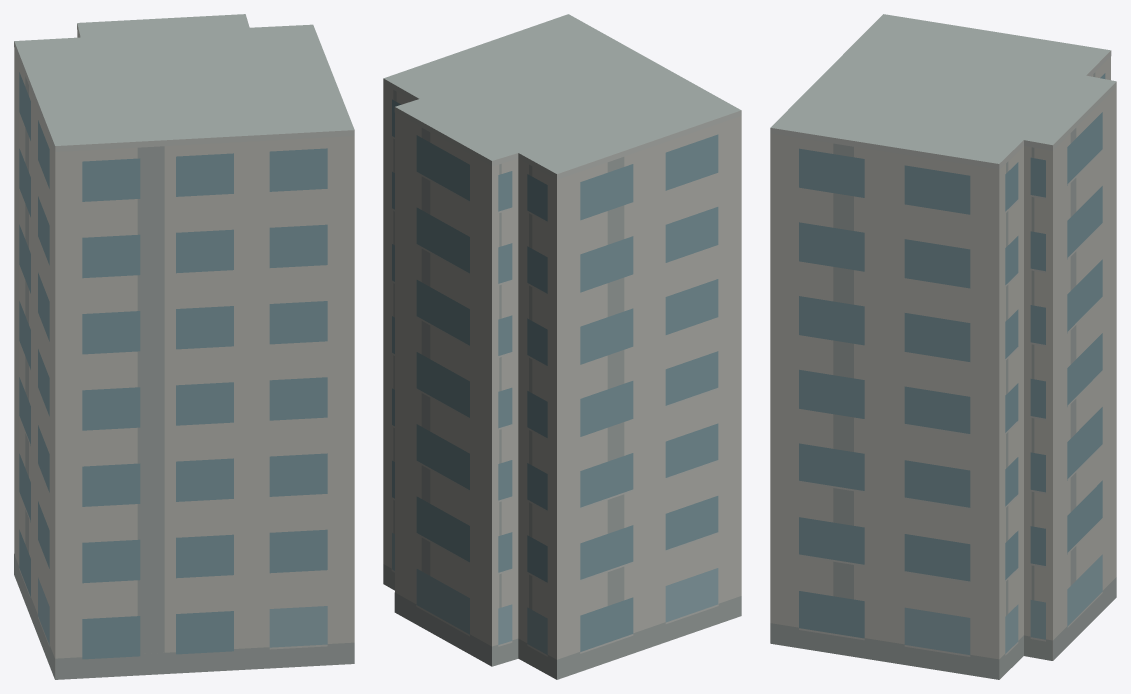
File: survey-upis-32978401.glb
3 views of the same model, side by side, from view 1: azimuth 30°, elevation 25°; view 2: azimuth 150°, elevation 25°; view 3: azimuth 270°, elevation 25° (orthographic). The views are drawn at different scales.
Visible parts, largest first — view 1: survey-upis-32978401.tmp; view 2: survey-upis-32978401.tmp; view 3: survey-upis-32978401.tmp.
Boxes of the visible parts, box(x1,y1,x2,y2) form: survey-upis-32978401.tmp: box(14, 14, 354, 679); survey-upis-32978401.tmp: box(383, 14, 741, 679); survey-upis-32978401.tmp: box(770, 14, 1116, 679).
Bounding box in the file's own units: 13.54 × 21.7 × 13.21.
